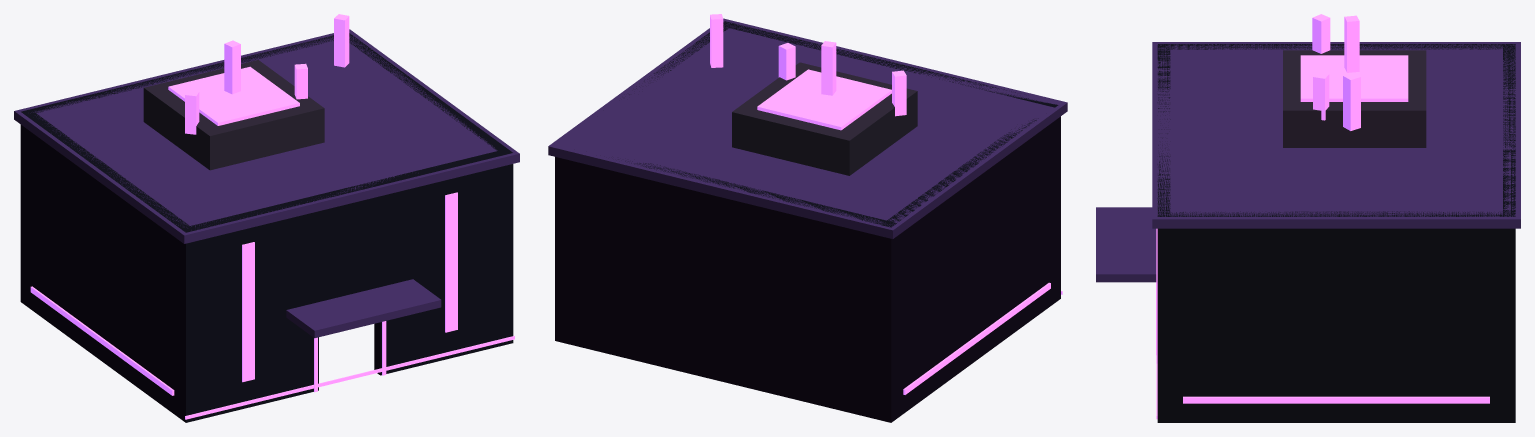
File: shaddai_dist_void_b4_v01.glb
The picture shows the model from 3 angles, left to right: view 1: azimuth 30°, elevation 25°; view 2: azimuth 150°, elevation 25°; view 3: azimuth 270°, elevation 25°; orthographic projection. The views are drawn at different scales.
Visible parts, largest first — view 1: shaddai_dist_void_b4; view 2: shaddai_dist_void_b4; view 3: shaddai_dist_void_b4.
Boxes of the visible parts, x1=… form: shaddai_dist_void_b4: x1=14, y1=14, x2=519, y2=422; shaddai_dist_void_b4: x1=548, y1=14, x2=1067, y2=422; shaddai_dist_void_b4: x1=1096, y1=14, x2=1520, y2=422.
Size of the model in its own units: 16.4 by 13.08 by 16.6.
